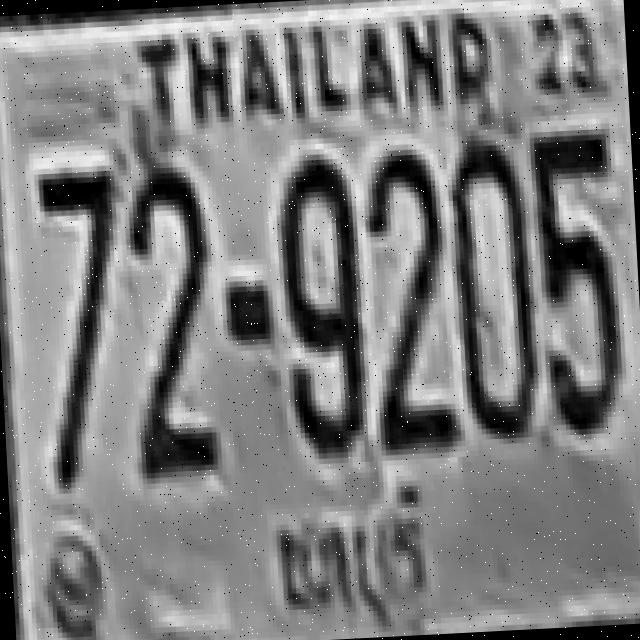0: (446, 136, 536, 433), (275, 148, 361, 344)
2: (122, 164, 215, 424), (362, 148, 451, 408), (126, 233, 218, 477), (362, 146, 450, 390), (367, 207, 455, 450)
5: (528, 129, 624, 431)
7: (36, 165, 121, 361)
9: (276, 174, 366, 455), (278, 206, 367, 455)
Chonburi: (266, 475, 442, 638)
